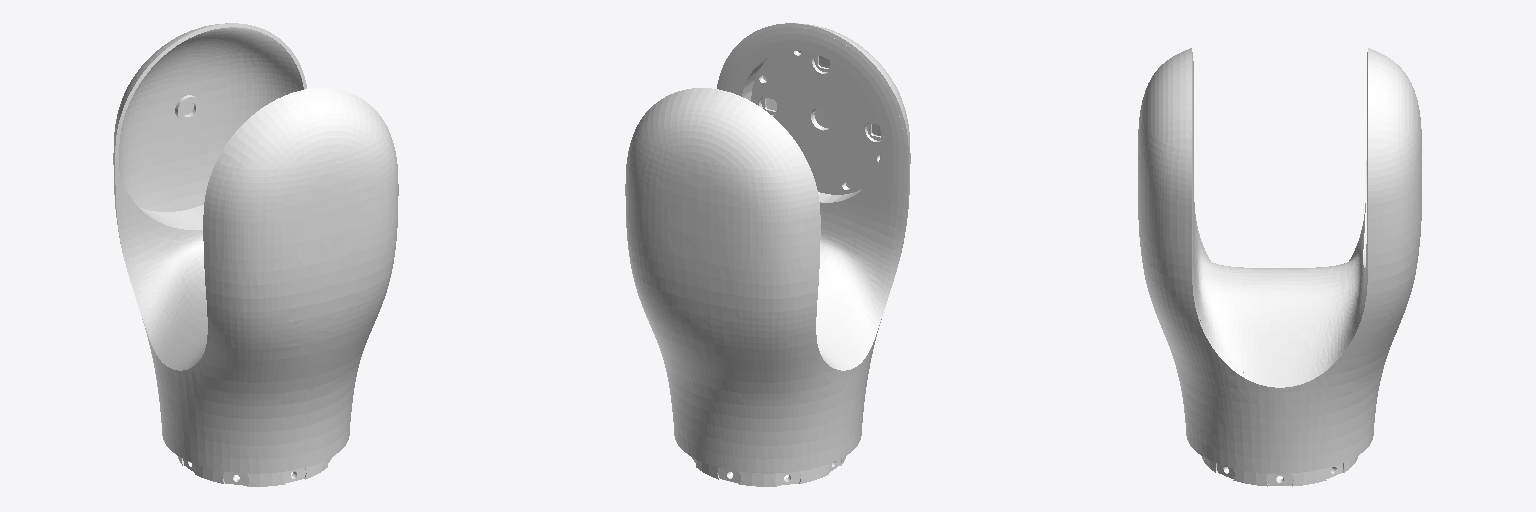
File: right_arm_link4.obj
3 views of the same model, side by side, from view 1: azimuth 30°, elevation 25°; view 2: azimuth 150°, elevation 25°; view 3: azimuth 270°, elevation 25° (orthographic).
Parts seen in each view (by area): view 1: arm_link4; view 2: arm_link4; view 3: arm_link4.
Part boxes in pixels (x1,y1,x2,y2): arm_link4: (113,23,398,486); arm_link4: (625,23,910,486); arm_link4: (1138,48,1421,486).
Size of the model in its own units: 0.0823 by 0.1607 by 0.1049.